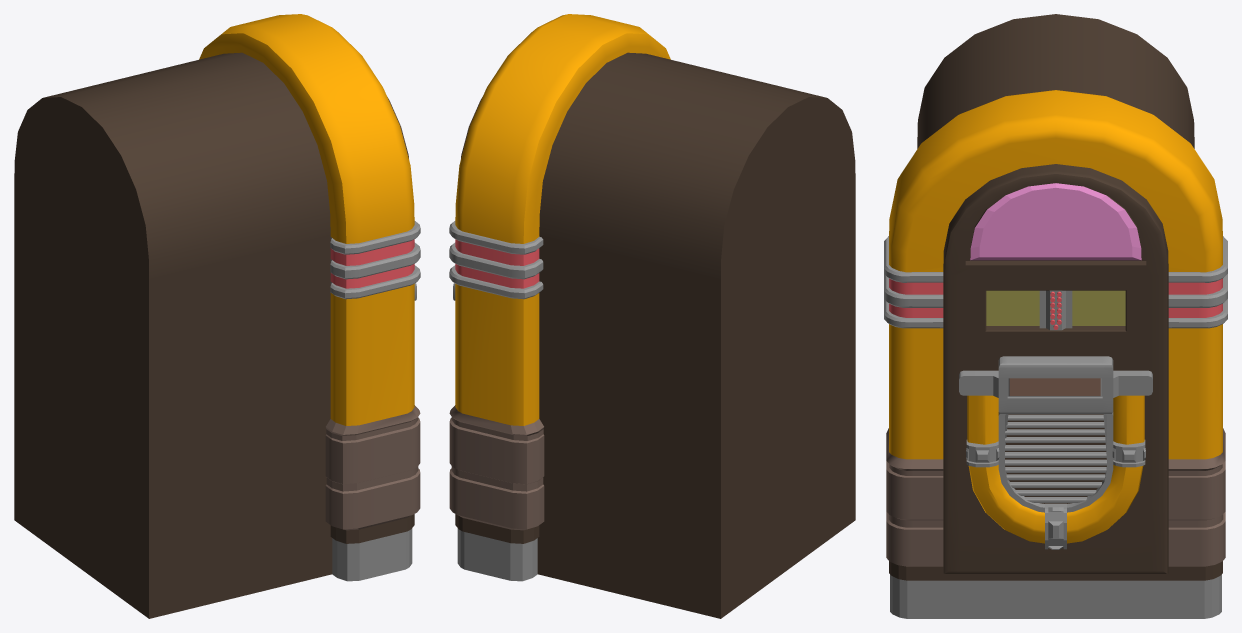
The model's file is jukebox.fbx.
3 renders of one model, left to right at view 1: azimuth 30°, elevation 25°; view 2: azimuth 150°, elevation 25°; view 3: azimuth 270°, elevation 25°, orthographic. The views are drawn at different scales.
Parts seen in each view (by area): view 1: pCube39; view 2: pCube39; view 3: pCube39.
Part boxes in pixels (x1,y1,x2,y2): pCube39: (14,14,420,618); pCube39: (449,14,855,618); pCube39: (884,14,1227,618).
Bounding box in the file's own units: 4.04 × 6.38 × 4.
